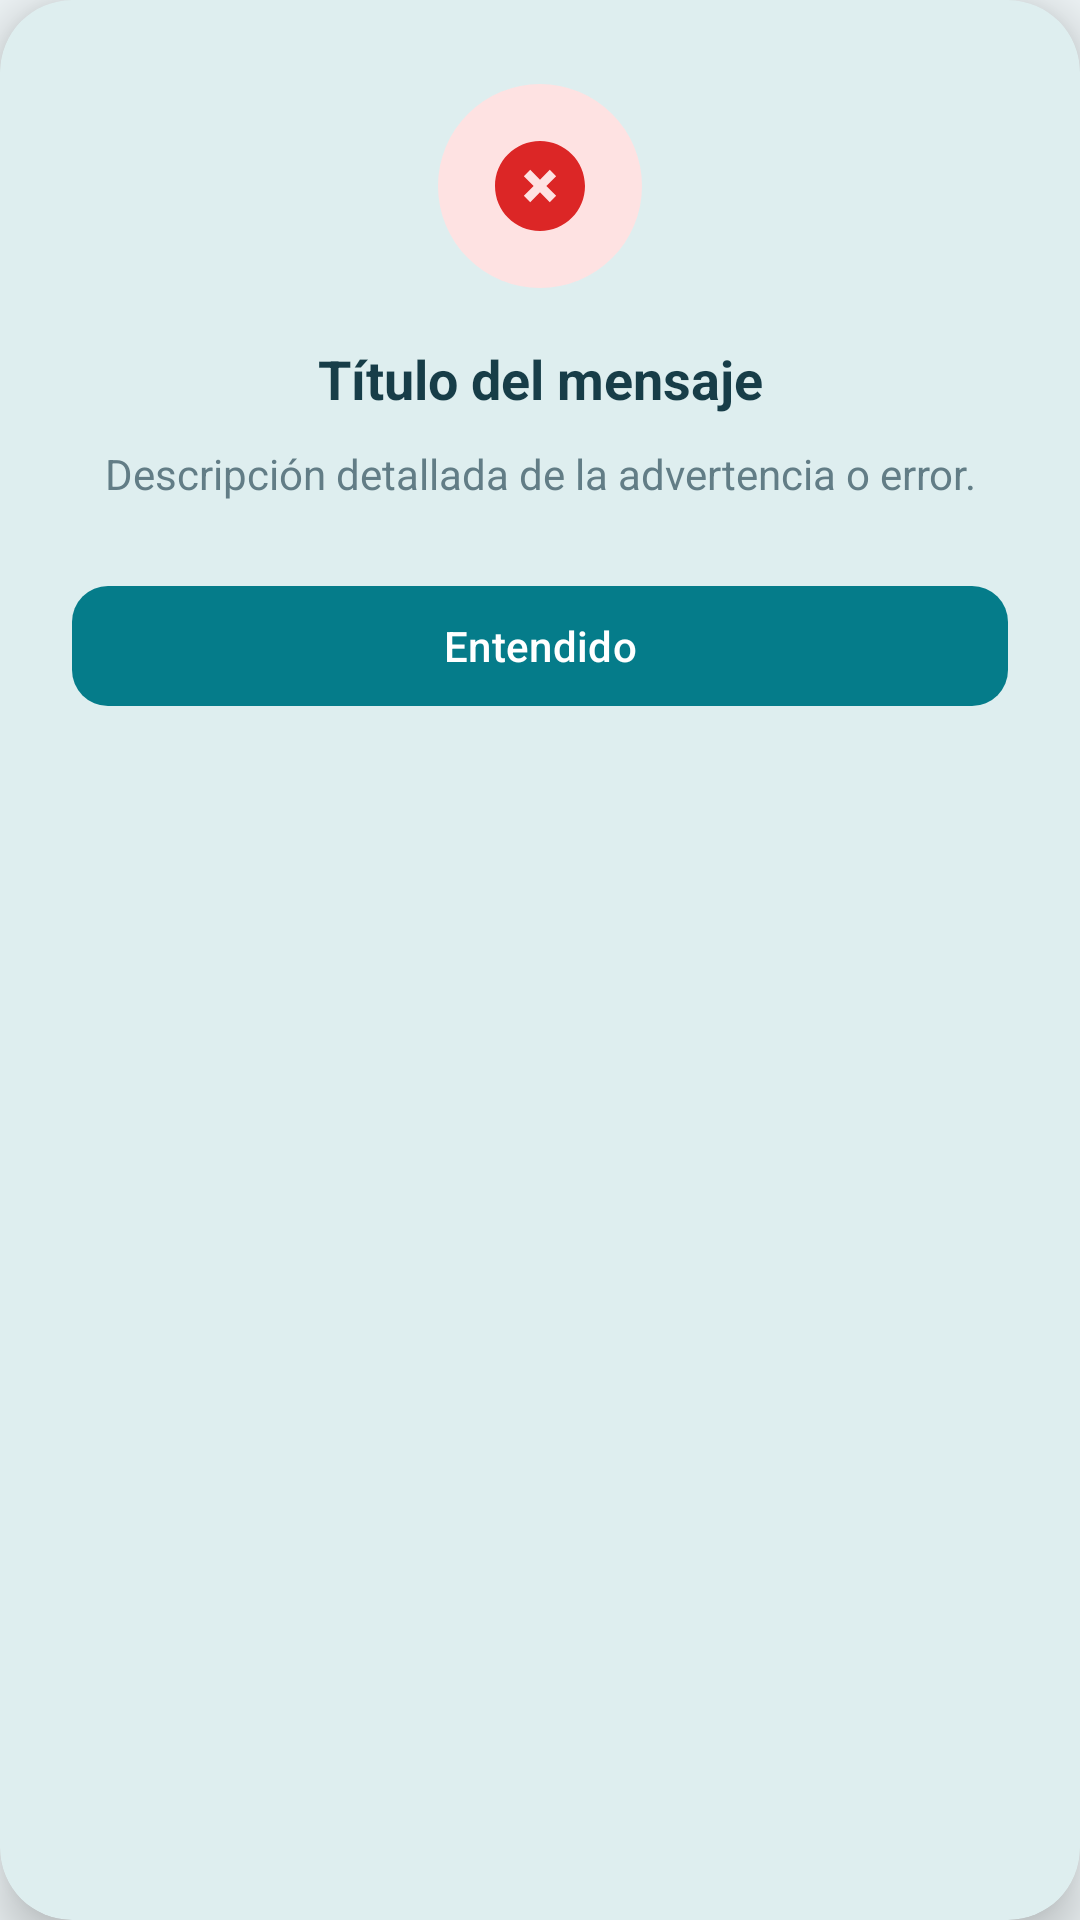

Where icons sit on this 1080x1920 app screen, as (x1=x1, y1=y1, x2=x2, y2=y2):
modal error: (x1=495, y1=141, x2=585, y2=231)
